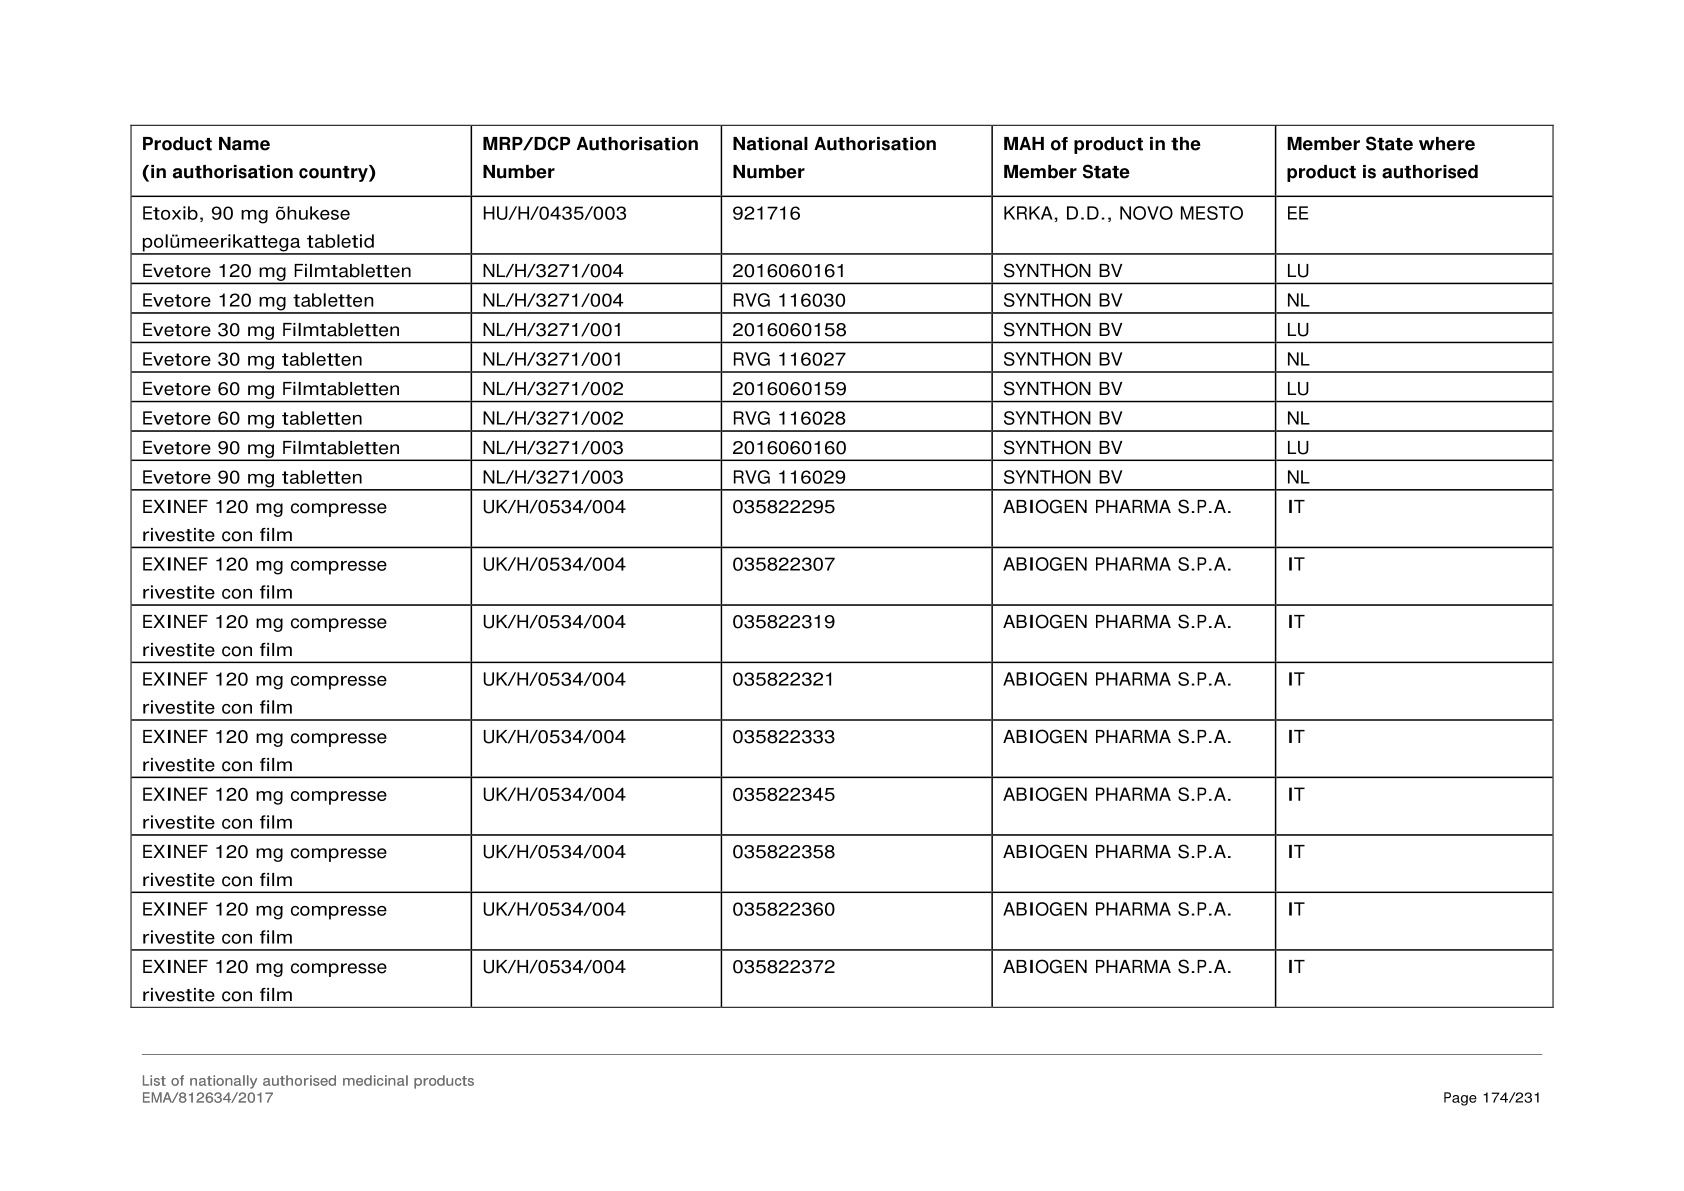full_lined: (130, 122, 1554, 1008)
